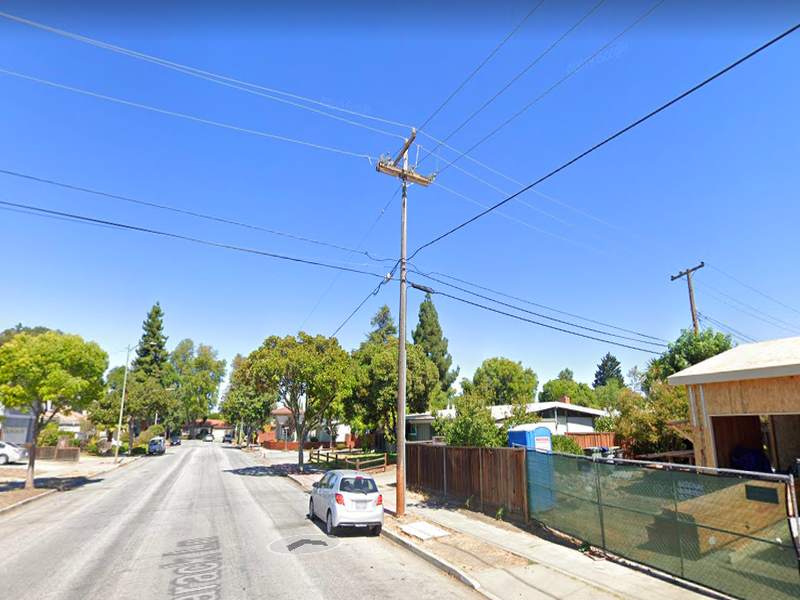utility_pole: (367, 116, 440, 221), (660, 247, 710, 301)
